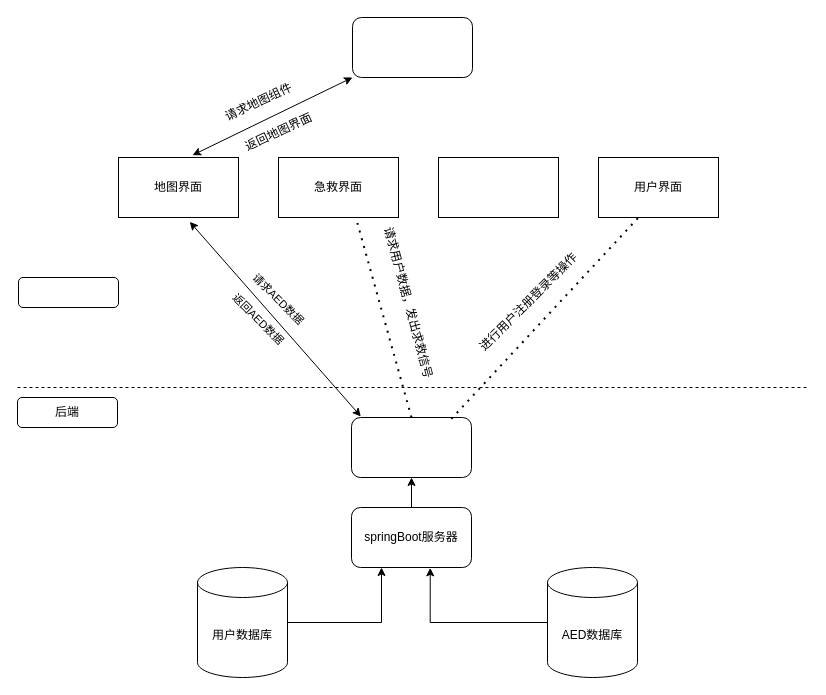
Image size: 826x695. Some labels were removed from this diagram. Each missing label, with the box of its shape:
AED使用指引界面: (438, 156, 558, 218)
前端: (18, 276, 118, 308)
数据库操作相关接口: (350, 416, 472, 478)
百度地图第三方API: (352, 16, 472, 78)
